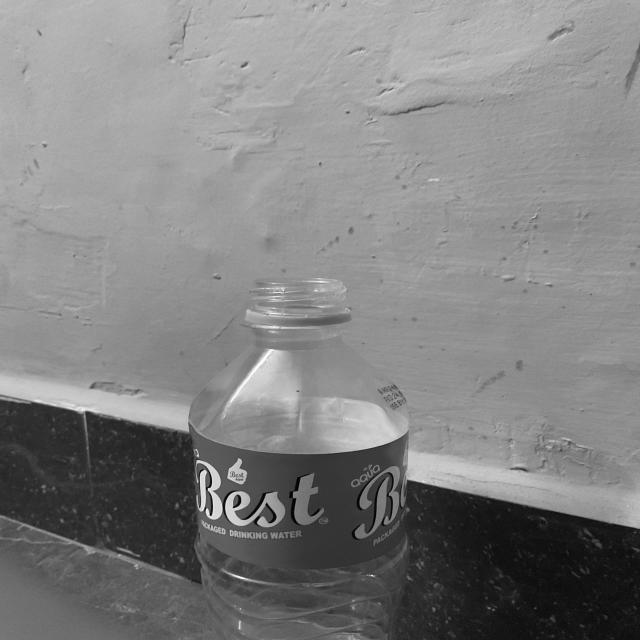open-cap: (241, 276, 355, 325)
